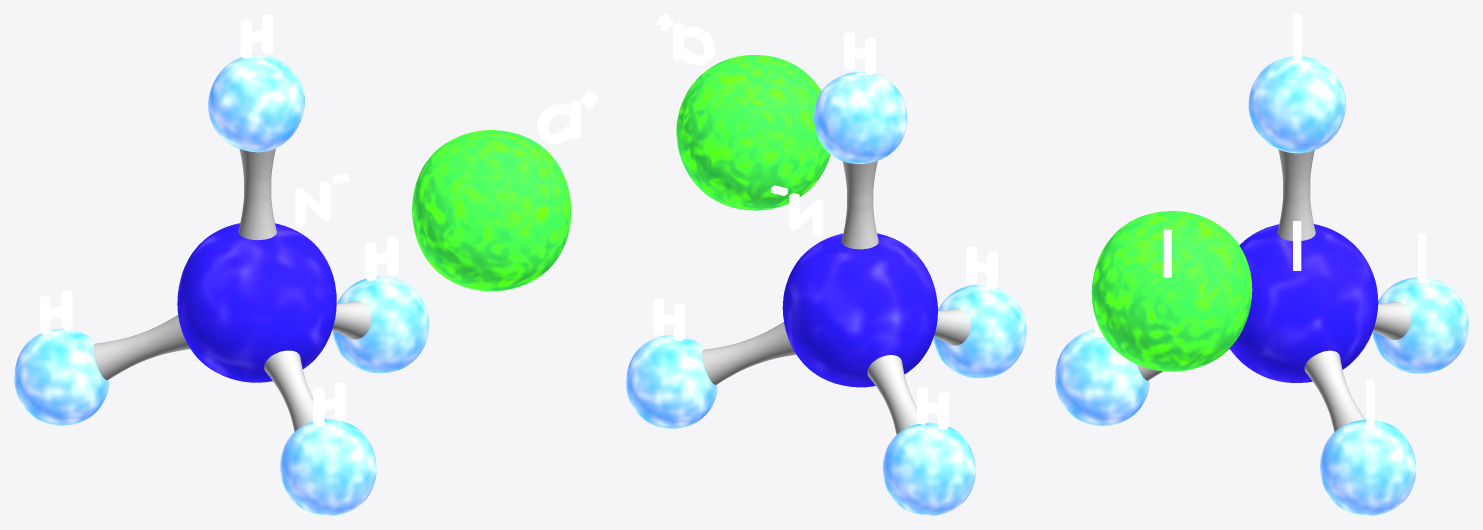
3 renders of one model, left to right at view 1: azimuth 30°, elevation 25°; view 2: azimuth 150°, elevation 25°; view 3: azimuth 270°, elevation 25°, orthographic. The views are drawn at different scales.
Parts seen in each view (by area): view 1: NH4Cl; view 2: NH4Cl; view 3: NH4Cl.
Boxes of the visible parts, box(x1,y1,x2,y2) form: NH4Cl: box(14, 14, 597, 515); NH4Cl: box(626, 14, 1026, 515); NH4Cl: box(1055, 14, 1468, 515).
Bounding box in the file's own units: 5.2 × 4.58 × 4.16.
Materials: 5 (3 with a texture image).
